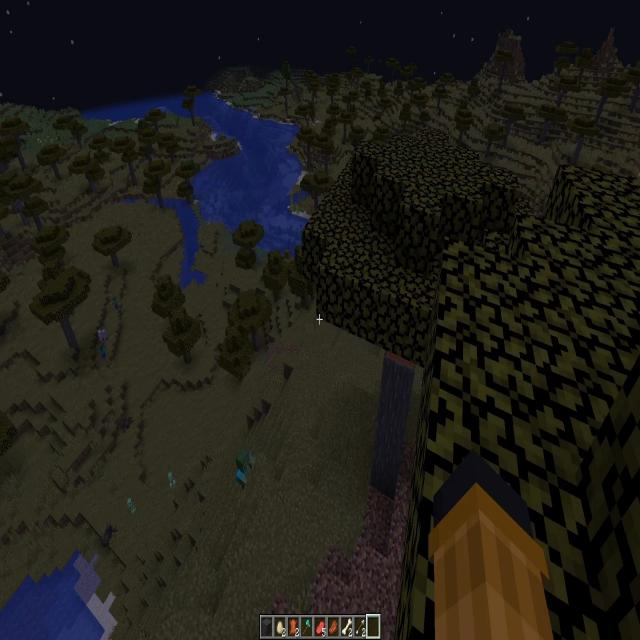Creeper: (168, 472, 176, 488), (128, 499, 136, 514)
Skeleton: (103, 328, 108, 342), (98, 329, 103, 341)
Spider: (102, 526, 115, 544), (120, 415, 132, 431)
Zombie: (236, 447, 251, 484), (99, 343, 105, 359), (114, 296, 118, 310)
